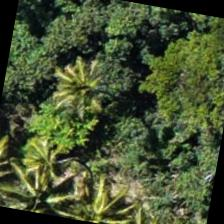Kelapa_Sawit: (27, 40, 131, 144), (0, 153, 92, 221)
